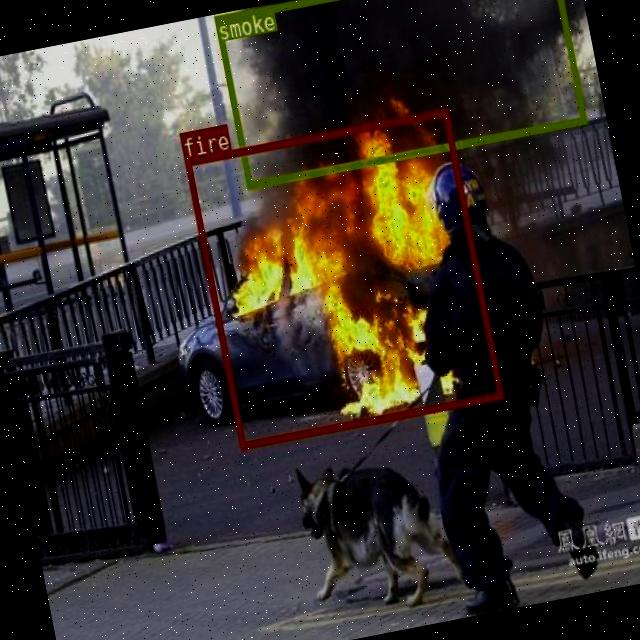fire: (182, 108, 503, 450)
smoke: (213, 0, 585, 187)
